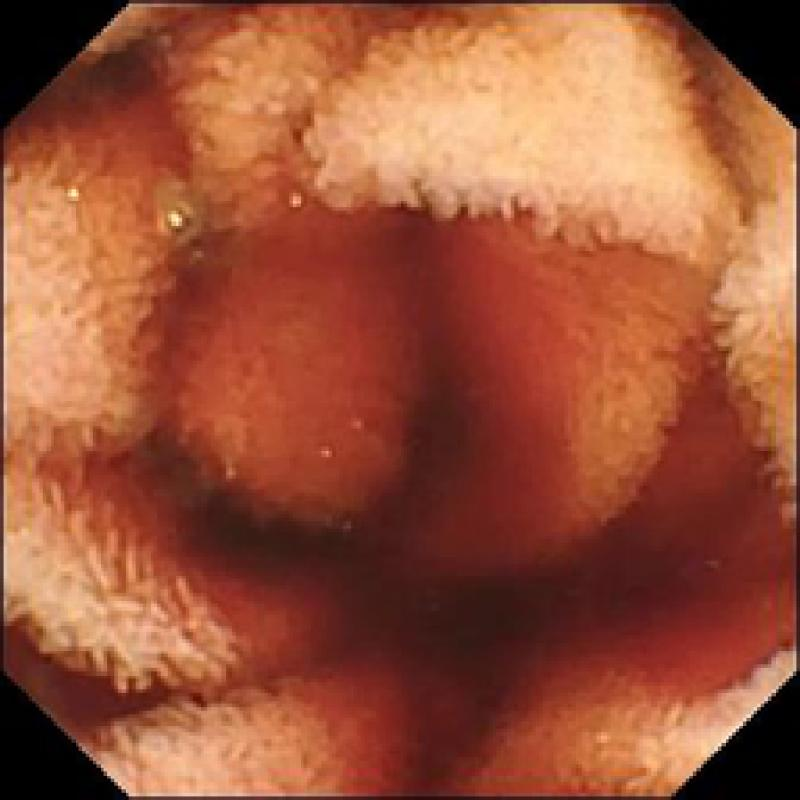bleeding: (18, 193, 800, 800)
